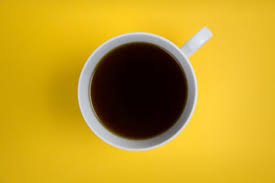cup: (71, 16, 221, 158)
